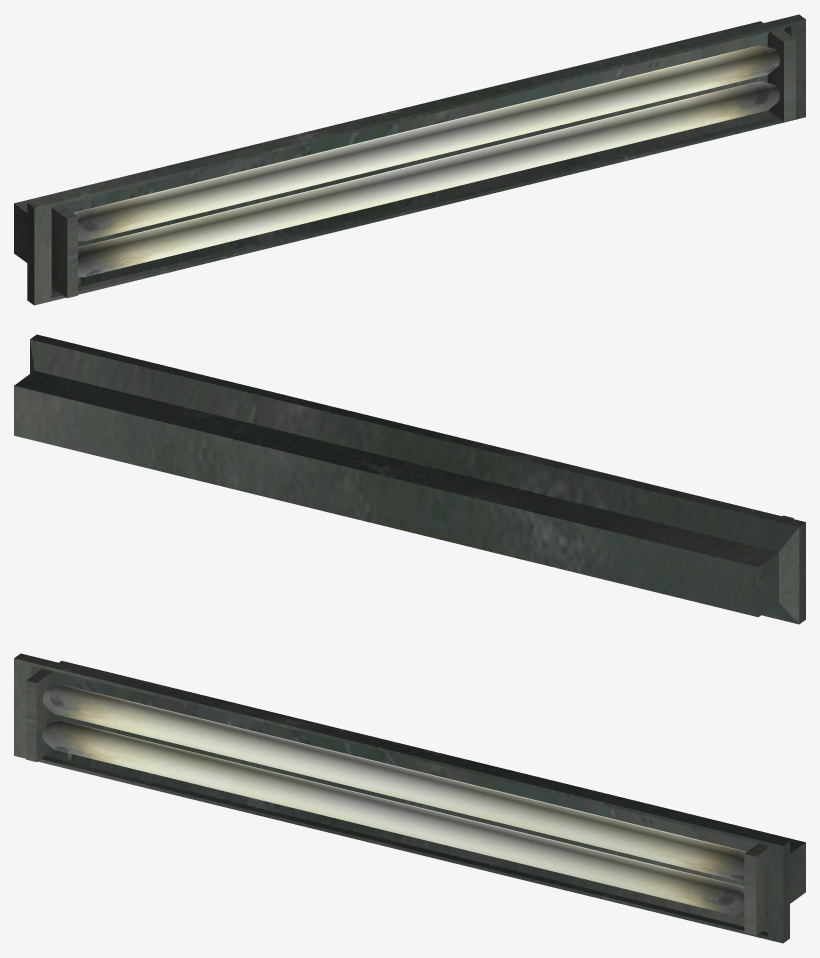
The model's file is intersecting_corridors_small_light.fbx.
3 views of the same model, one above another, from view 1: azimuth 30°, elevation 25°; view 2: azimuth 150°, elevation 25°; view 3: azimuth 330°, elevation 25° (orthographic).
Visible parts, largest first — view 1: intersecting_corridors_small_light.001; view 2: intersecting_corridors_small_light.001; view 3: intersecting_corridors_small_light.001.
Part boxes in pixels (box(x1,y1,x2,y2)): intersecting_corridors_small_light.001: box(14, 14, 805, 305); intersecting_corridors_small_light.001: box(14, 334, 805, 624); intersecting_corridors_small_light.001: box(14, 653, 805, 943).
Size of the model in its own units: 1.69 by 0.2043 by 0.1682.
Materials: 1 (1 with a texture image).
